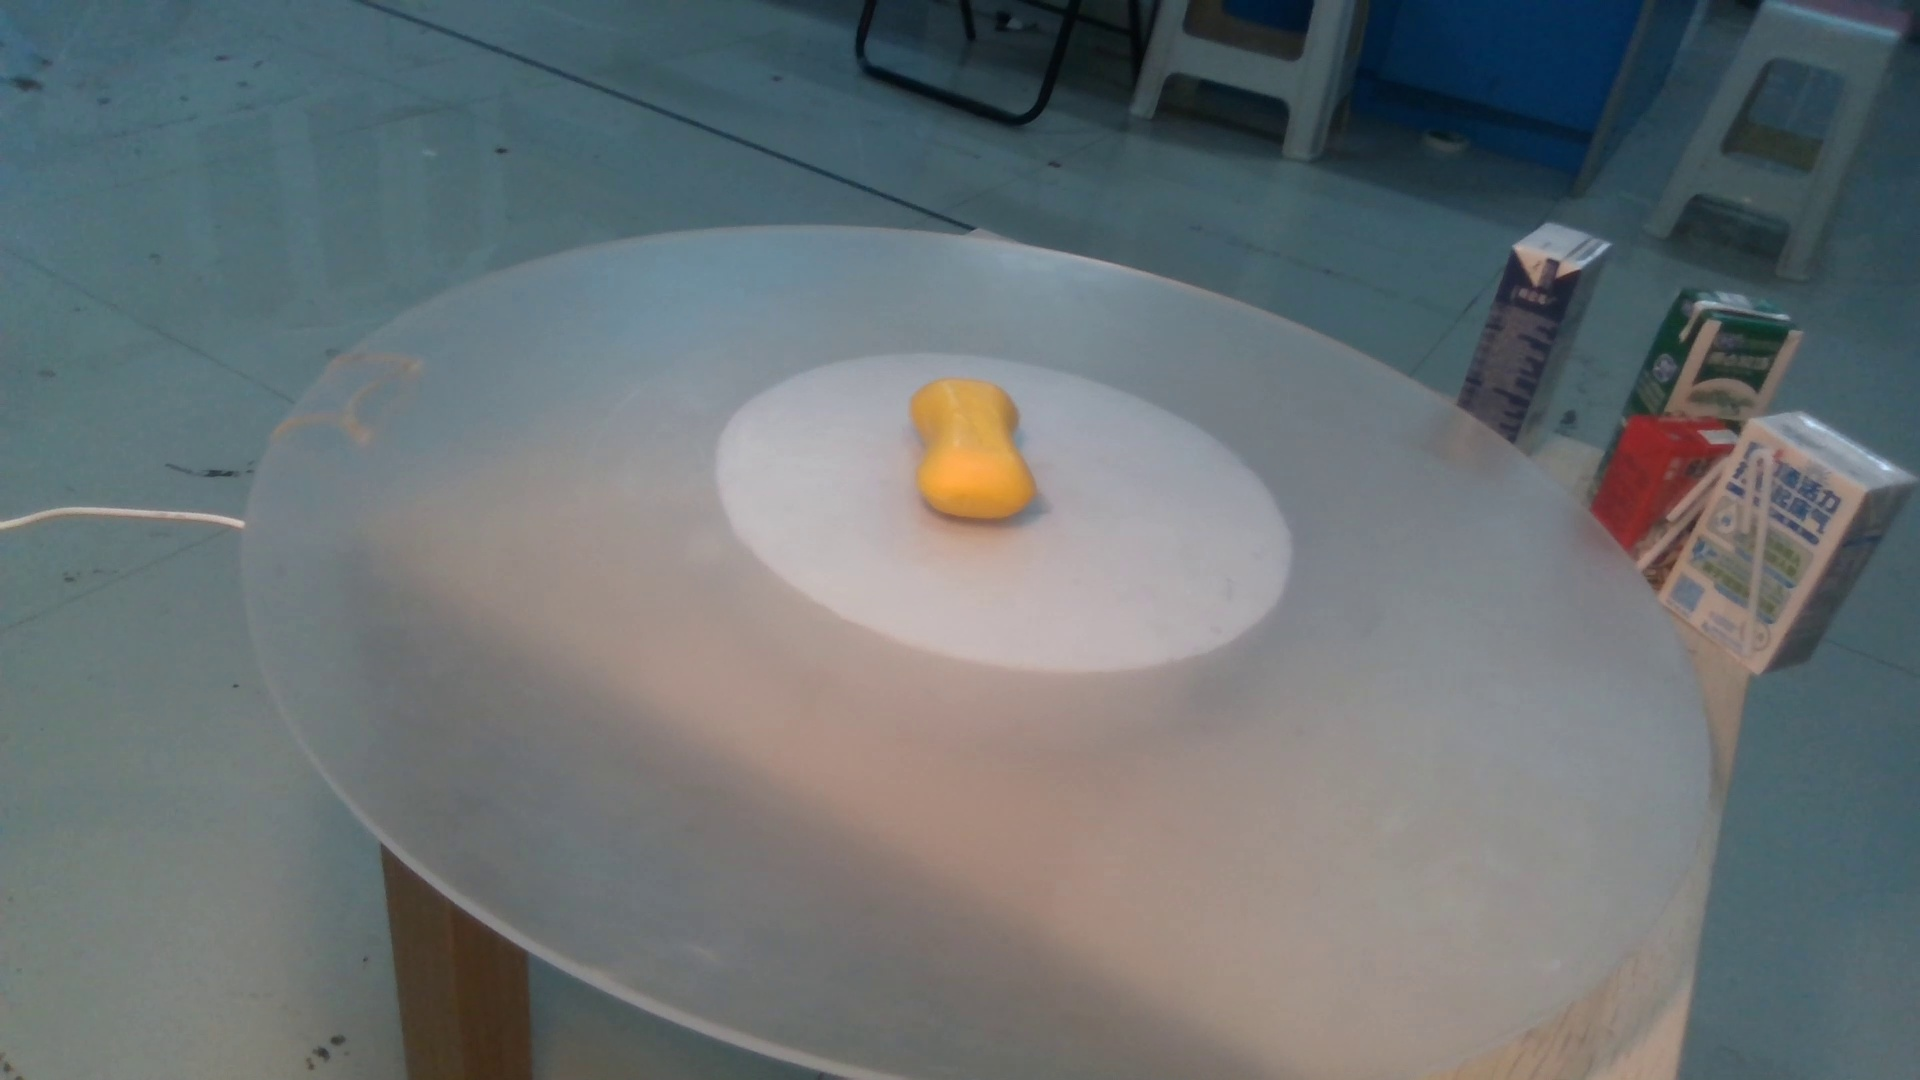CA003_1: (873, 352, 1069, 535)
